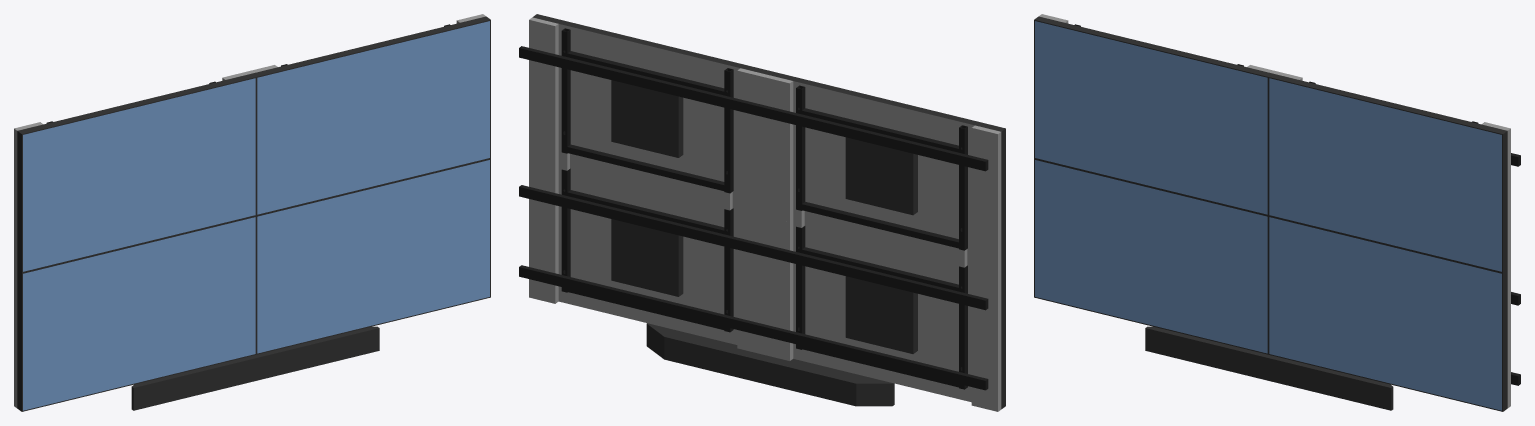
File: 4k-VRWall.fbx
The picture shows the model from 3 angles, left to right: view 1: azimuth 30°, elevation 25°; view 2: azimuth 150°, elevation 25°; view 3: azimuth 330°, elevation 25°; orthographic projection.
Parts seen in each view (by area): view 1: Planar-ThinBezelLCD-42in.007, Planar-ThinBezelLCD-42in.005, Planar-ThinBezelLCD-42in, Planar-ThinBezelLCD-42in.002, Cube; view 2: Planar-ThinBezelLCD-42in.007, Planar-ThinBezelLCD-42in.005, Planar-ThinBezelLCD-42in, Planar-ThinBezelLCD-42in.002, DisplayMount.002, DisplayMount, Cube, Black-MountingBar, Black-MountingBar.002, Black-MountingBar.001; view 3: Planar-ThinBezelLCD-42in.005, Planar-ThinBezelLCD-42in.007, Planar-ThinBezelLCD-42in.002, Planar-ThinBezelLCD-42in, Cube.
Part boxes in pixels (x1=…): Planar-ThinBezelLCD-42in.007: x1=14, y1=71, x2=256, y2=272; Planar-ThinBezelLCD-42in.005: x1=249, y1=14, x2=490, y2=215; Planar-ThinBezelLCD-42in: x1=14, y1=216, x2=256, y2=411; Planar-ThinBezelLCD-42in.002: x1=256, y1=158, x2=490, y2=354; Cube: x1=131, y1=326, x2=379, y2=410; Planar-ThinBezelLCD-42in.007: x1=763, y1=71, x2=1005, y2=272; Planar-ThinBezelLCD-42in.005: x1=529, y1=14, x2=770, y2=215; Planar-ThinBezelLCD-42in: x1=763, y1=216, x2=1005, y2=411; Planar-ThinBezelLCD-42in.002: x1=529, y1=158, x2=763, y2=354; DisplayMount.002: x1=561, y1=28, x2=733, y2=332; DisplayMount: x1=796, y1=85, x2=967, y2=389; Cube: x1=646, y1=323, x2=894, y2=406; Black-MountingBar: x1=519, y1=46, x2=988, y2=171; Black-MountingBar.002: x1=519, y1=185, x2=988, y2=310; Black-MountingBar.001: x1=519, y1=265, x2=988, y2=390; Planar-ThinBezelLCD-42in.005: x1=1268, y1=71, x2=1510, y2=272; Planar-ThinBezelLCD-42in.007: x1=1034, y1=14, x2=1275, y2=215; Planar-ThinBezelLCD-42in.002: x1=1268, y1=216, x2=1510, y2=411; Planar-ThinBezelLCD-42in: x1=1034, y1=158, x2=1268, y2=354; Cube: x1=1145, y1=326, x2=1393, y2=410.
Size of the model in its own units: 2.08 by 1.27 by 0.085.
